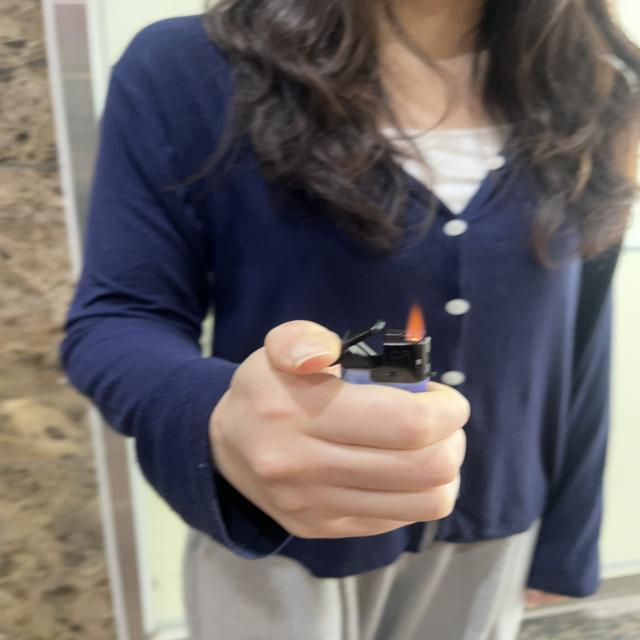fire: (406, 304, 428, 340)
